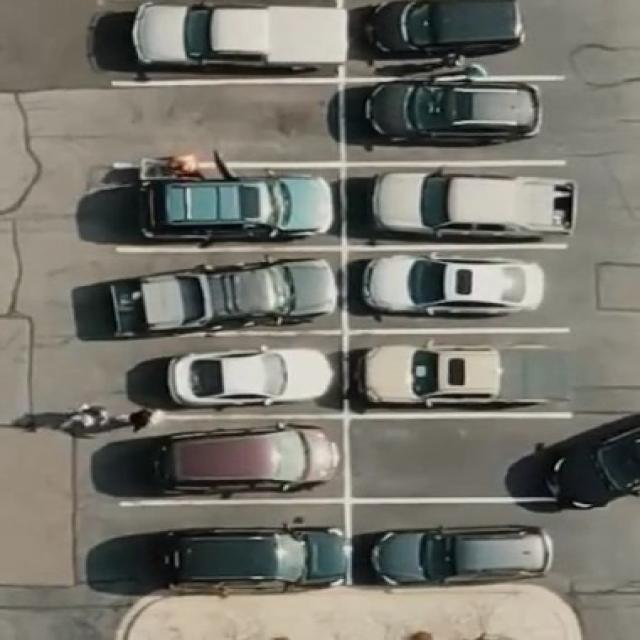space-empty: (98, 75, 342, 169), (344, 413, 559, 502)
space-occupied: (96, 497, 352, 592), (96, 242, 342, 339), (96, 413, 349, 502), (345, 323, 581, 416), (343, 158, 578, 248), (343, 69, 566, 163), (101, 1, 345, 85), (346, 242, 570, 330), (350, 498, 564, 589), (93, 342, 346, 416), (116, 163, 344, 245), (347, 0, 530, 72)
